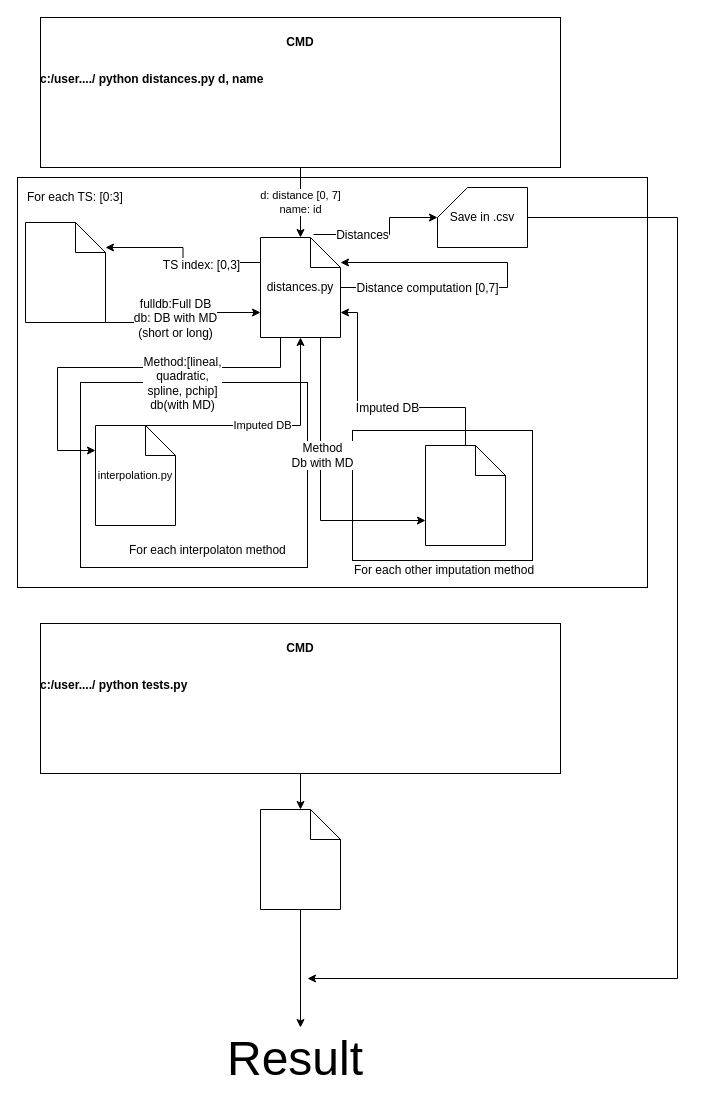
This 703x1106 diagram has some shape labels left out. Each missing label, with the box of its shape:
imputation.py: (424, 444, 506, 546)
tests.py: (260, 808, 340, 910)
toydb.py: (24, 222, 106, 322)
